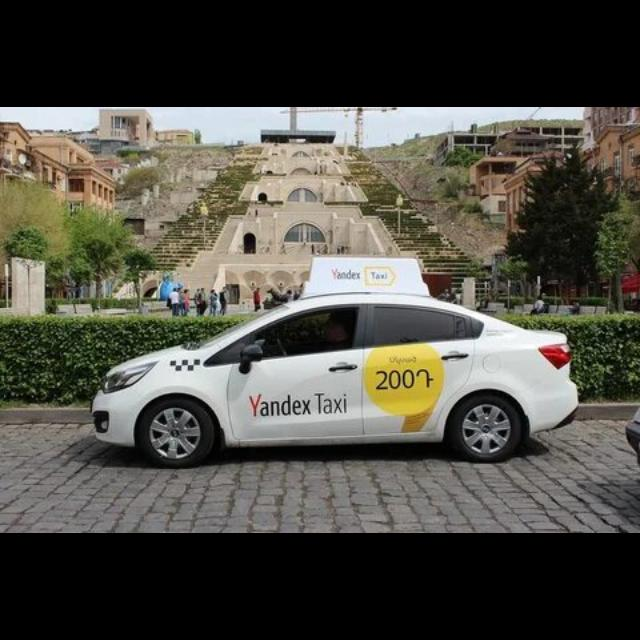taxi: (91, 255, 580, 469)
